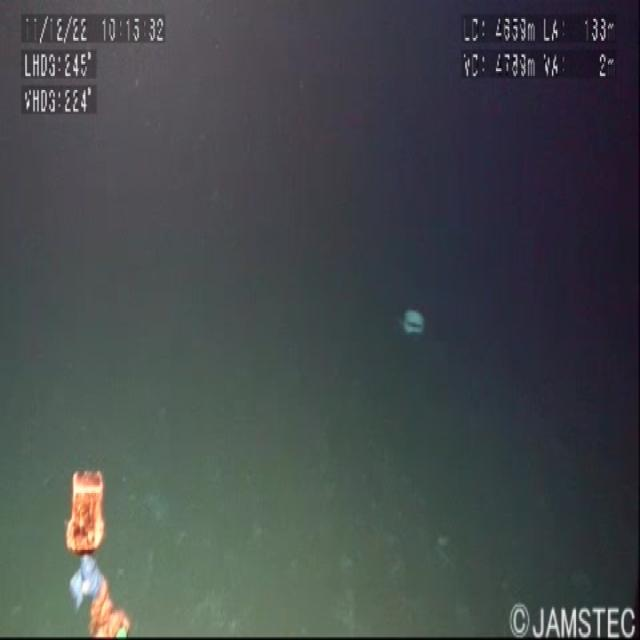Litter: (387, 270, 453, 390)
